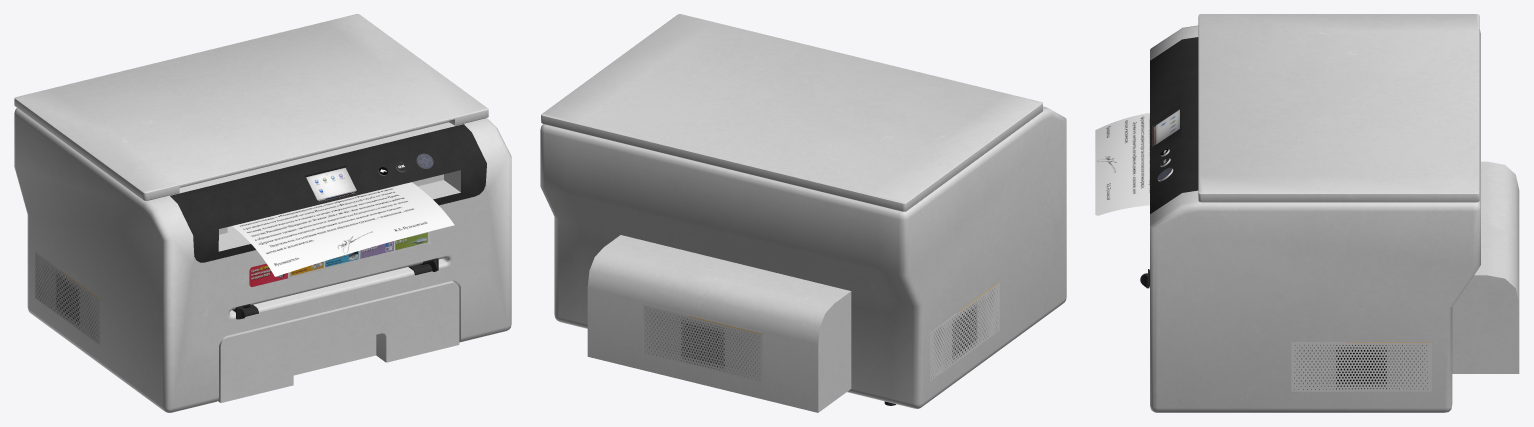
Rendered from SM_打印机001.fbx.
The picture shows the model from 3 angles, left to right: view 1: azimuth 30°, elevation 25°; view 2: azimuth 150°, elevation 25°; view 3: azimuth 270°, elevation 25°; orthographic projection. The views are drawn at different scales.
Parts seen in each view (by area): view 1: SM_打印机001; view 2: SM_打印机001; view 3: SM_打印机001.
Boxes of the visible parts, x1,y1,x2,y2 form: SM_打印机001: (14, 14, 511, 412); SM_打印机001: (540, 14, 1066, 412); SM_打印机001: (1095, 14, 1519, 412).
Size of the model in its own units: 40.8 by 23.84 by 40.27.
